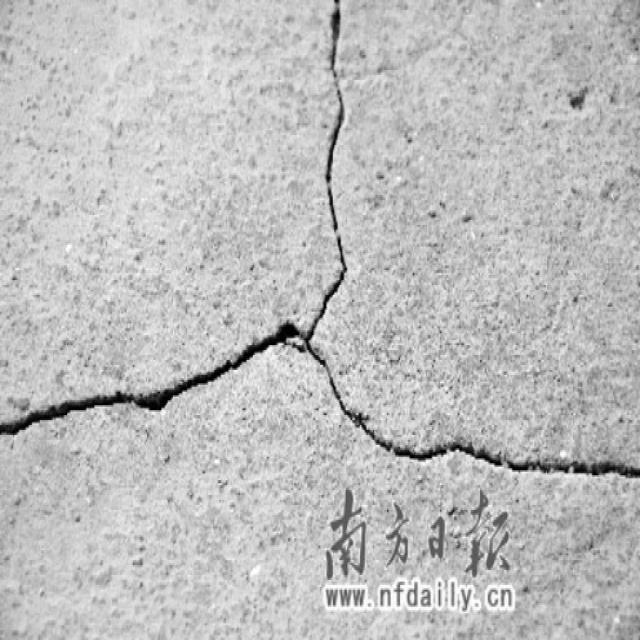crack: (0, 315, 639, 483), (316, 2, 350, 315)
